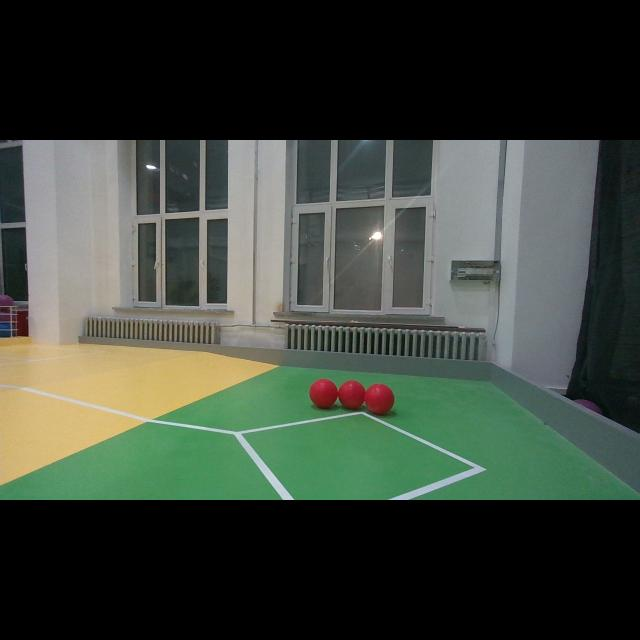R: (364, 384, 394, 414), (338, 380, 366, 410), (310, 379, 338, 409)
